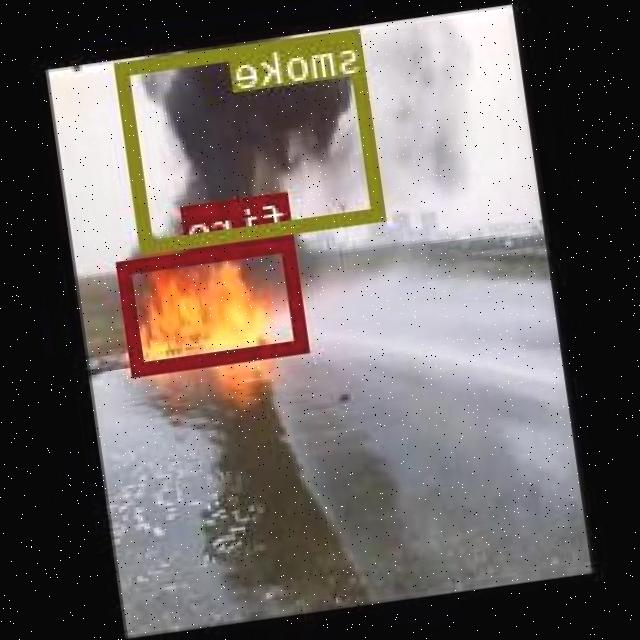fire: (120, 236, 312, 374)
smoke: (119, 27, 388, 250)
